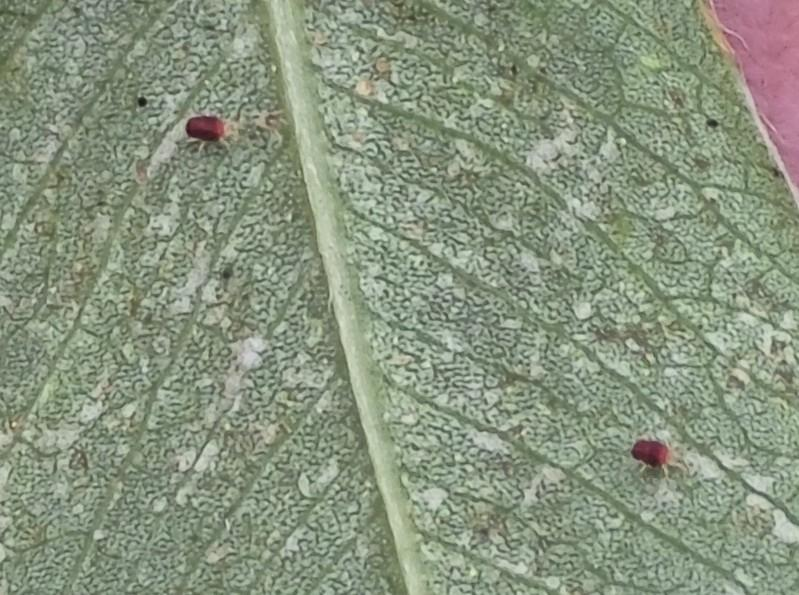tiny_pests: (168, 96, 250, 162), (617, 417, 692, 487)
